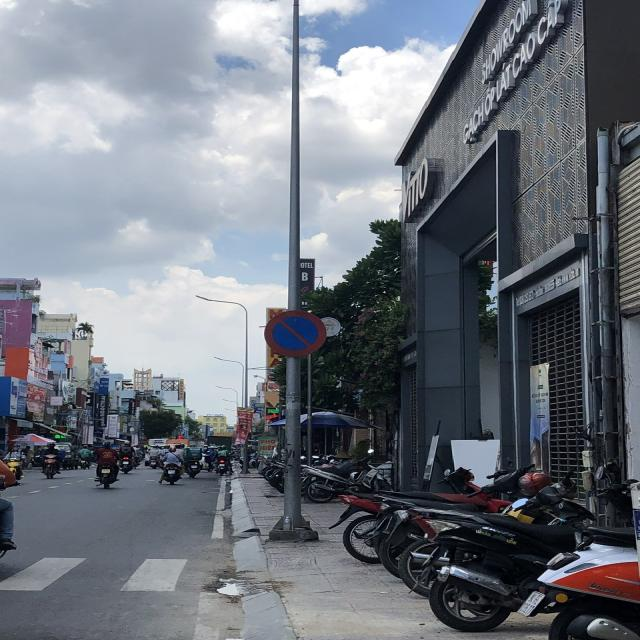Bien bao cam do xe: (260, 304, 330, 361)
